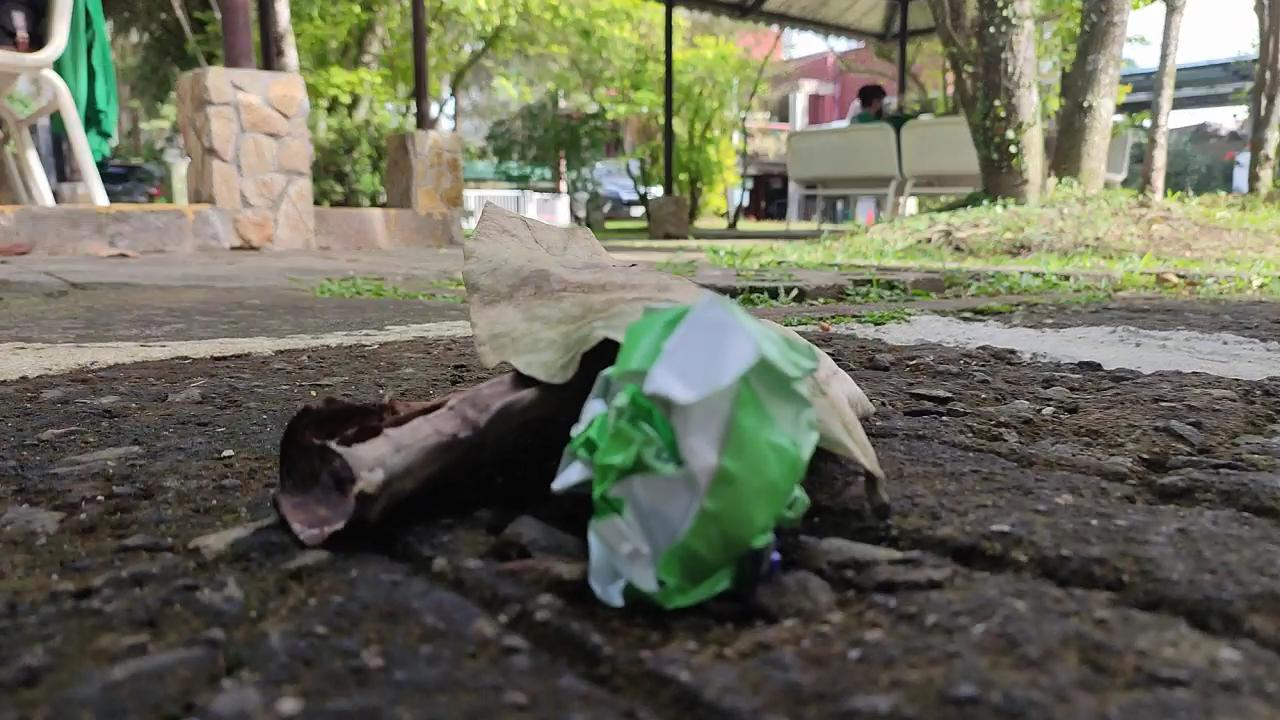Paper: (538, 280, 828, 624)
